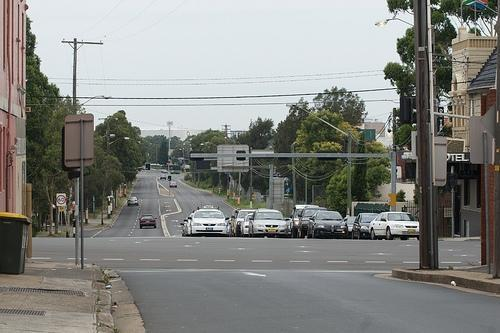car: (368, 212, 420, 240), (248, 208, 288, 240), (304, 210, 348, 238), (188, 209, 229, 235), (230, 209, 257, 237), (352, 213, 379, 240), (240, 212, 254, 236), (139, 214, 158, 229), (186, 210, 196, 234), (127, 198, 140, 206), (168, 180, 177, 188), (158, 174, 167, 181)
